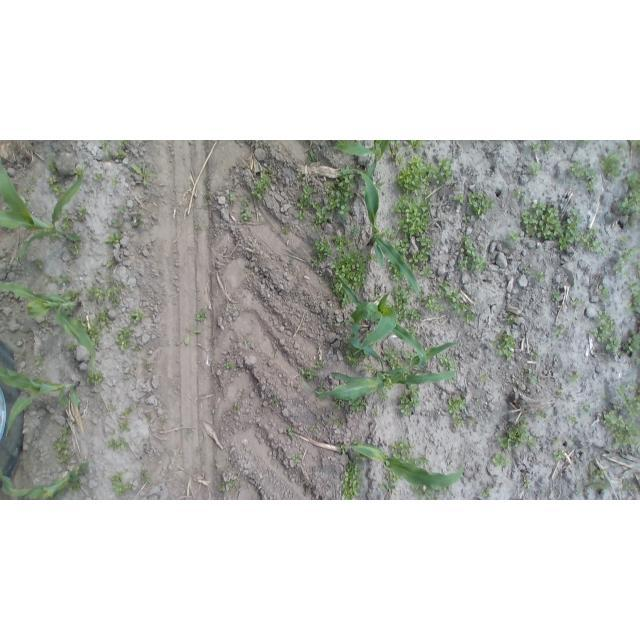Maize: (338, 169, 421, 310), (301, 341, 459, 399), (1, 158, 84, 263), (340, 276, 427, 376), (0, 282, 94, 374), (1, 366, 80, 438), (352, 443, 465, 488), (329, 141, 390, 178), (1, 469, 72, 500)
Weeds: (521, 198, 582, 251), (398, 156, 453, 196), (332, 250, 367, 309), (390, 194, 431, 236), (327, 168, 355, 216), (437, 280, 469, 313), (612, 415, 640, 451), (392, 440, 429, 466), (591, 320, 622, 351), (457, 242, 488, 273), (619, 171, 640, 216), (409, 236, 435, 271), (499, 419, 529, 449), (341, 461, 361, 500), (398, 384, 421, 417), (54, 428, 75, 463), (493, 330, 516, 361), (297, 181, 315, 220), (600, 152, 625, 179), (469, 194, 495, 219), (392, 285, 411, 319), (312, 236, 333, 266), (131, 162, 157, 186), (587, 463, 610, 490), (251, 172, 270, 200), (582, 228, 600, 252), (116, 329, 135, 351), (423, 293, 443, 312), (389, 140, 403, 166), (628, 281, 640, 311), (447, 395, 465, 415), (106, 286, 124, 305), (624, 396, 640, 417), (627, 329, 640, 354), (436, 353, 455, 370), (491, 453, 512, 468), (89, 287, 108, 303), (87, 326, 102, 346), (333, 235, 352, 250), (394, 237, 410, 254), (108, 438, 128, 451), (315, 207, 328, 227), (570, 161, 586, 177), (95, 307, 109, 325), (184, 331, 200, 346), (384, 349, 401, 363), (419, 265, 435, 279), (345, 350, 359, 365), (408, 308, 424, 321), (106, 232, 123, 244), (129, 309, 143, 323), (349, 399, 364, 412), (598, 284, 610, 300), (460, 311, 476, 323), (70, 472, 81, 489), (88, 372, 103, 384), (604, 409, 615, 425), (109, 472, 123, 484), (303, 369, 318, 380), (622, 480, 637, 491), (114, 485, 130, 495), (196, 310, 208, 323), (64, 290, 78, 301), (411, 141, 425, 152), (530, 141, 541, 155), (527, 163, 541, 174), (54, 183, 66, 195), (120, 420, 131, 433), (79, 462, 90, 474), (555, 324, 566, 336), (553, 450, 565, 461), (387, 469, 398, 481), (308, 149, 317, 163), (137, 214, 145, 229), (68, 245, 80, 255), (390, 270, 402, 280), (509, 230, 518, 243), (421, 491, 434, 500), (615, 384, 625, 395), (543, 141, 553, 152), (380, 484, 397, 490), (407, 351, 418, 360), (598, 311, 609, 320), (553, 291, 562, 302), (408, 327, 417, 338), (48, 160, 56, 172), (453, 419, 465, 427), (366, 252, 376, 261), (67, 342, 77, 351), (63, 221, 73, 230), (588, 182, 596, 193), (587, 170, 598, 178), (25, 186, 36, 194), (242, 209, 250, 220), (389, 363, 403, 369), (123, 407, 132, 416), (117, 150, 126, 159), (334, 400, 343, 409), (351, 225, 359, 235), (627, 380, 637, 388), (511, 189, 519, 199), (380, 390, 388, 400), (483, 488, 490, 499), (73, 169, 84, 176), (635, 263, 640, 278), (142, 476, 150, 485), (571, 298, 580, 306), (536, 272, 544, 281), (460, 235, 469, 243), (454, 194, 463, 202), (107, 259, 116, 267), (632, 141, 640, 150), (468, 416, 477, 424), (597, 469, 605, 478), (284, 428, 294, 435), (34, 357, 42, 365), (555, 437, 563, 445), (48, 176, 56, 184), (113, 219, 121, 227), (282, 224, 289, 233), (44, 274, 51, 283), (312, 202, 321, 209), (623, 252, 630, 260), (630, 248, 638, 255), (524, 197, 532, 204), (65, 276, 72, 284), (227, 362, 234, 370), (614, 402, 621, 410), (243, 199, 250, 207), (509, 316, 516, 324), (572, 374, 580, 381), (292, 456, 300, 463), (56, 276, 62, 285), (109, 276, 115, 285), (118, 140, 127, 146), (569, 416, 578, 422), (339, 445, 345, 454), (578, 140, 591, 144), (106, 145, 111, 155), (621, 237, 628, 244), (480, 374, 487, 381), (531, 437, 538, 444), (583, 405, 590, 412), (365, 364, 371, 372), (184, 431, 192, 437), (615, 265, 621, 273), (297, 171, 303, 179), (636, 382, 640, 394), (227, 193, 233, 201), (233, 403, 240, 409), (194, 223, 200, 230), (37, 262, 43, 269), (317, 361, 324, 367), (81, 207, 87, 214), (119, 206, 126, 212), (206, 180, 211, 188), (523, 479, 531, 484), (205, 193, 211, 199), (135, 344, 141, 350), (95, 174, 101, 180), (373, 409, 378, 416), (270, 399, 277, 404), (319, 383, 324, 390), (620, 142, 625, 149), (311, 426, 317, 431), (334, 323, 340, 328), (111, 405, 117, 410), (228, 480, 233, 486), (220, 486, 226, 491), (600, 393, 606, 398), (525, 267, 530, 273), (143, 363, 149, 368), (532, 376, 537, 382), (568, 440, 573, 446), (113, 178, 118, 184), (536, 412, 542, 417), (338, 421, 343, 427), (636, 357, 640, 364), (53, 234, 60, 238), (345, 320, 350, 325), (63, 215, 69, 219), (412, 486, 420, 489), (462, 217, 469, 220), (295, 384, 300, 388), (557, 391, 562, 395), (624, 272, 630, 275), (101, 140, 104, 146), (32, 174, 35, 180), (244, 340, 248, 344), (534, 351, 538, 355), (25, 197, 29, 201), (543, 414, 547, 418), (328, 418, 333, 421), (212, 409, 216, 412), (166, 417, 169, 420)
